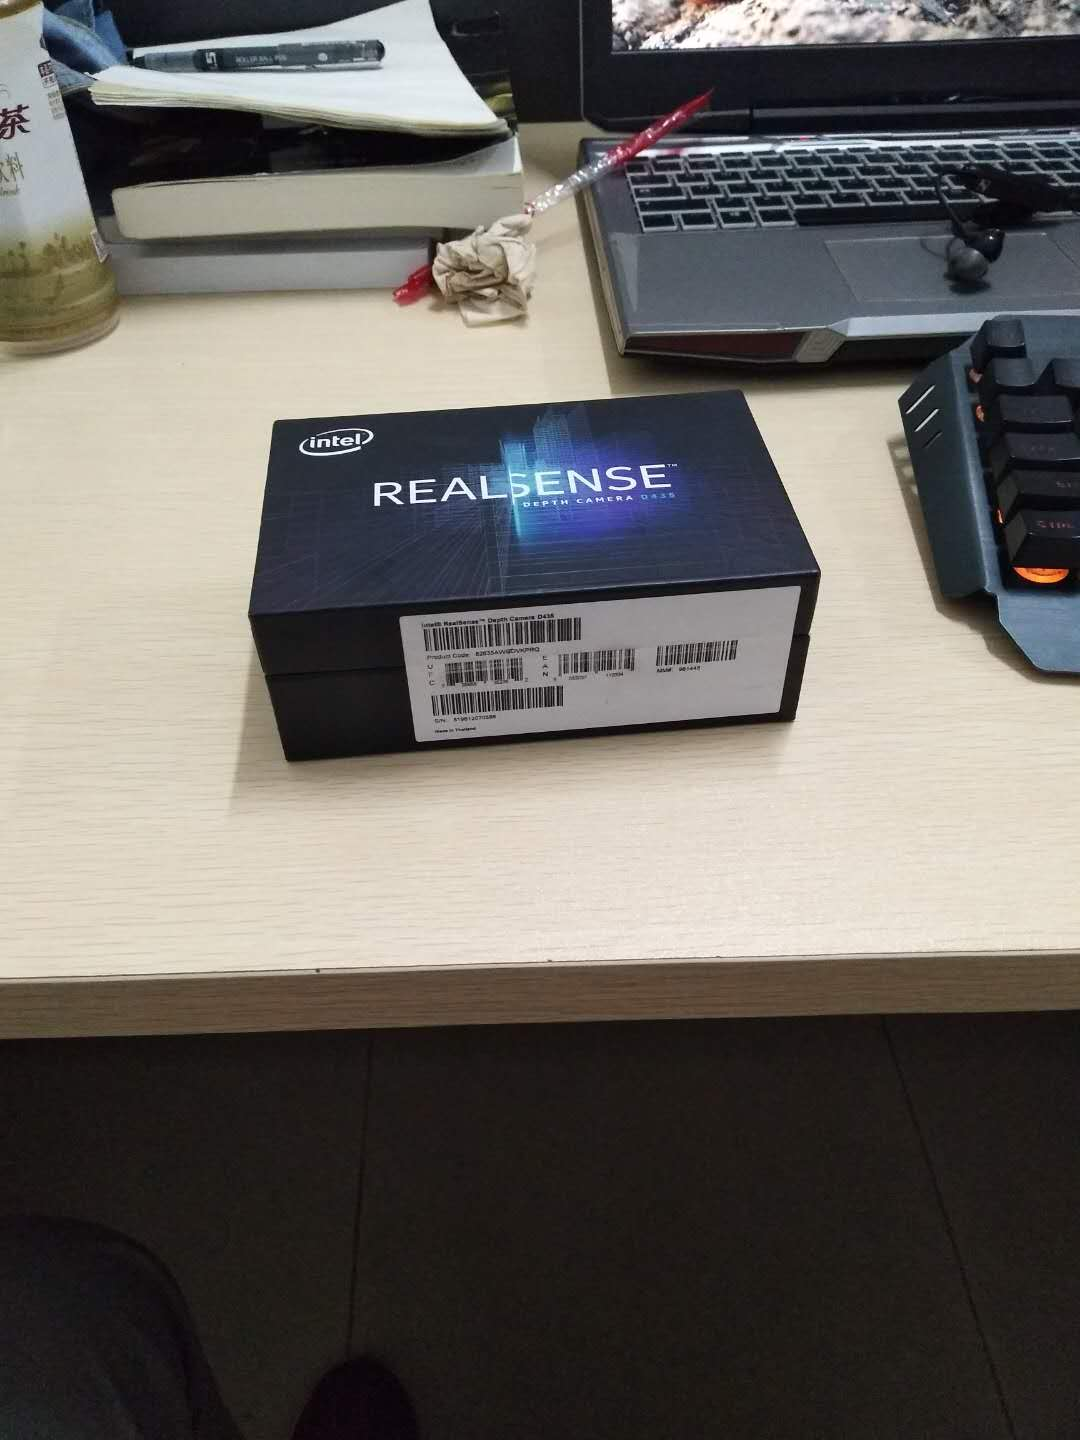box: (212, 397, 832, 754)
